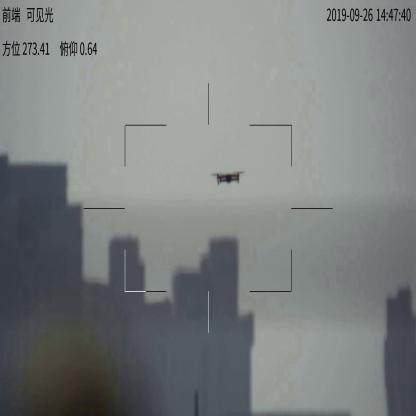uav: (210, 167, 245, 188)
